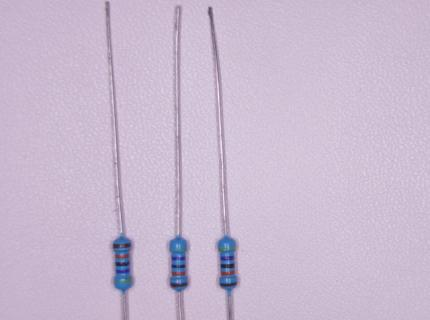Black band: (116, 261, 130, 266), (221, 263, 235, 268), (171, 264, 186, 268)
Brown band: (112, 242, 131, 249), (219, 282, 237, 287), (170, 282, 187, 287)
Orange band: (115, 253, 130, 259), (221, 270, 235, 276), (172, 271, 186, 276)
Violet band: (116, 269, 130, 274), (171, 256, 185, 261), (220, 256, 234, 260)
Yellow band: (218, 246, 235, 251), (114, 279, 132, 283), (169, 247, 187, 251)
